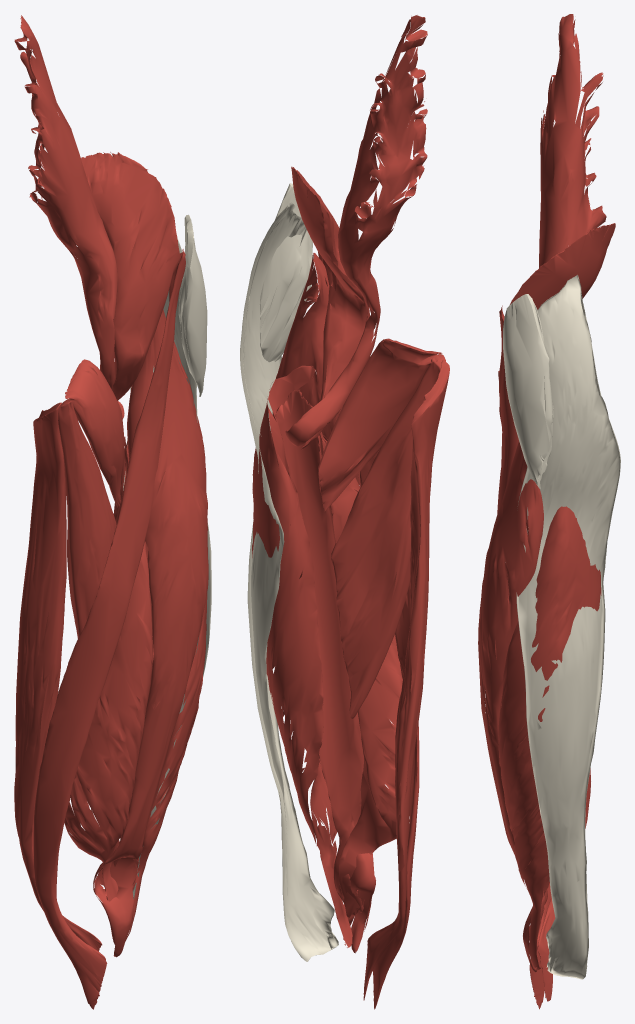
Rendered from thighf.glb.
3 views of the same model, side by side, from view 1: azimuth 30°, elevation 25°; view 2: azimuth 150°, elevation 25°; view 3: azimuth 270°, elevation 25° (orthographic). The views are drawn at different scales.
Parts seen in each view (by area): view 1: left rectus femoris, left sartorius, left gracilis, left vastus medialis, left iliacus, left psoas major, left adductor longus, left pectineus, left vastus lateralis, left tensor fasciae latae, left iliotibial tract; view 2: left vastus lateralis, left iliotibial tract, left adductor longus, left psoas major, left vastus intermedius, left gracilis, left vastus medialis, left pectineus, left iliacus, left rectus femoris, left tensor fasciae latae, left sartorius; view 3: left iliotibial tract, left vastus lateralis, left rectus femoris, left psoas major, left tensor fasciae latae, left iliacus, left sartorius, left gracilis.
Part boxes in pixels (left/top/right/bottom): left rectus femoris: left=93, top=309, right=208, bottom=957; left sartorius: left=33, top=249, right=185, bottom=1009; left gracilis: left=14, top=402, right=102, bottom=951; left vastus medialis: left=64, top=437, right=152, bottom=901; left iliacus: left=81, top=152, right=180, bottom=400; left psoas major: left=14, top=15, right=124, bottom=418; left adductor longus: left=58, top=399, right=116, bottom=638; left pectineus: left=64, top=359, right=124, bottom=508; left vastus lateralis: left=113, top=372, right=207, bottom=940; left tensor fasciae latae: left=178, top=214, right=207, bottom=396; left iliotibial tract: left=123, top=238, right=211, bottom=899; left vastus lateralis: left=252, top=365, right=352, bottom=947; left iliotibial tract: left=240, top=202, right=338, bottom=961; left adductor longus: left=331, top=353, right=445, bottom=718; left psoas major: left=285, top=15, right=427, bottom=446; left vastus intermedius: left=275, top=390, right=363, bottom=915; left gracilis: left=363, top=360, right=449, bottom=1000; left vastus medialis: left=319, top=433, right=409, bottom=917; left pectineus: left=318, top=338, right=442, bottom=511; left iliacus: left=291, top=166, right=369, bottom=450; left rectus femoris: left=272, top=253, right=375, bottom=953; left tensor fasciae latae: left=259, top=183, right=312, bottom=362; left sartorius: left=318, top=252, right=419, bottom=1009; left iliotibial tract: left=516, top=275, right=620, bottom=979; left vastus lateralis: left=498, top=506, right=601, bottom=970; left rectus femoris: left=478, top=441, right=547, bottom=972; left psoas major: left=539, top=14, right=606, bottom=267; left tensor fasciae latae: left=503, top=294, right=553, bottom=488; left iliacus: left=510, top=223, right=615, bottom=309; left sartorius: left=497, top=305, right=551, bottom=1009; left gracilis: left=537, top=768, right=590, bottom=1001.
Size of the model in its own units: 0.1537 by 0.8246 by 0.11.
